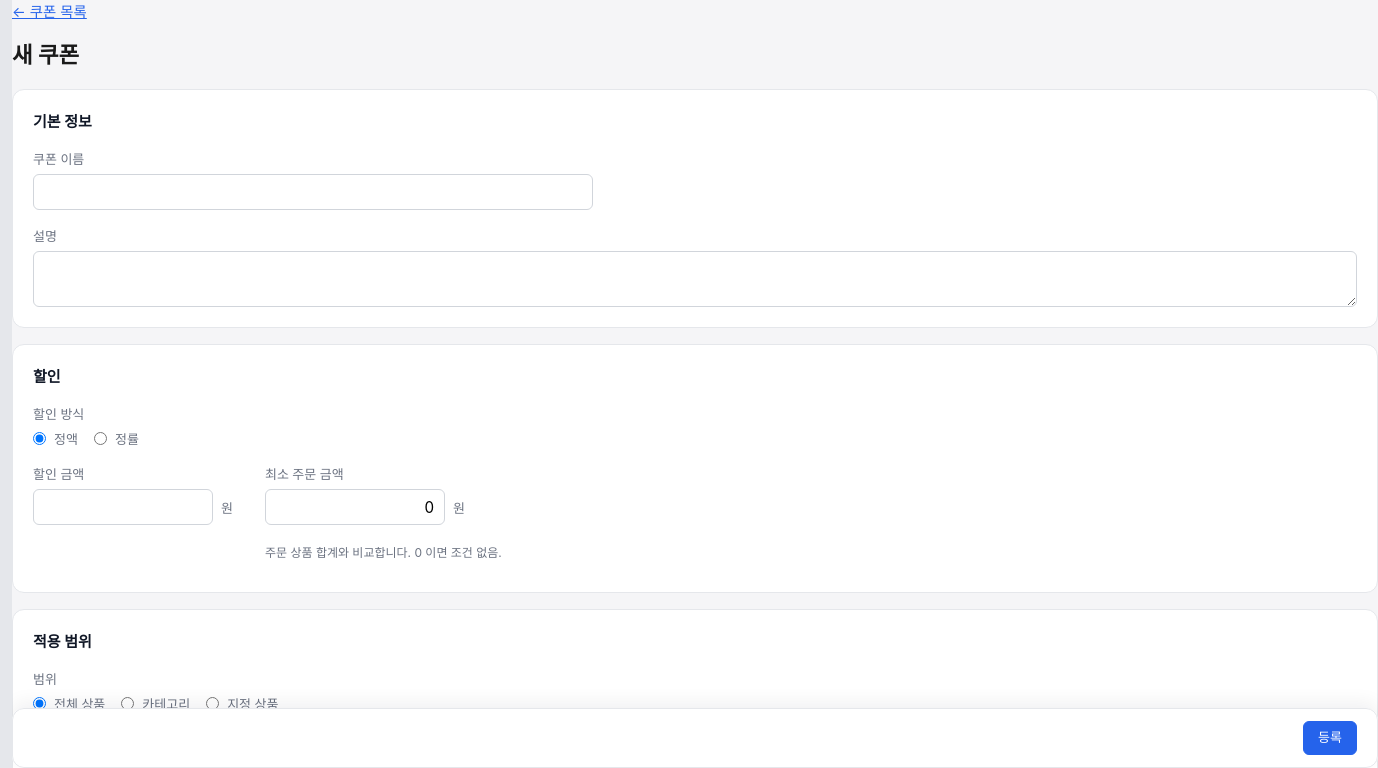
Test case: CouponFormPage › lists three-level categories with full paths, indented by depth
The width and height of the screenshot is (1378, 768).
What coordinates should you click on to do the following:
click the radio button labelled "카테고리"
I would click on:
 (128, 704)
Its box is [121,697,134,710].
(page scrolled)
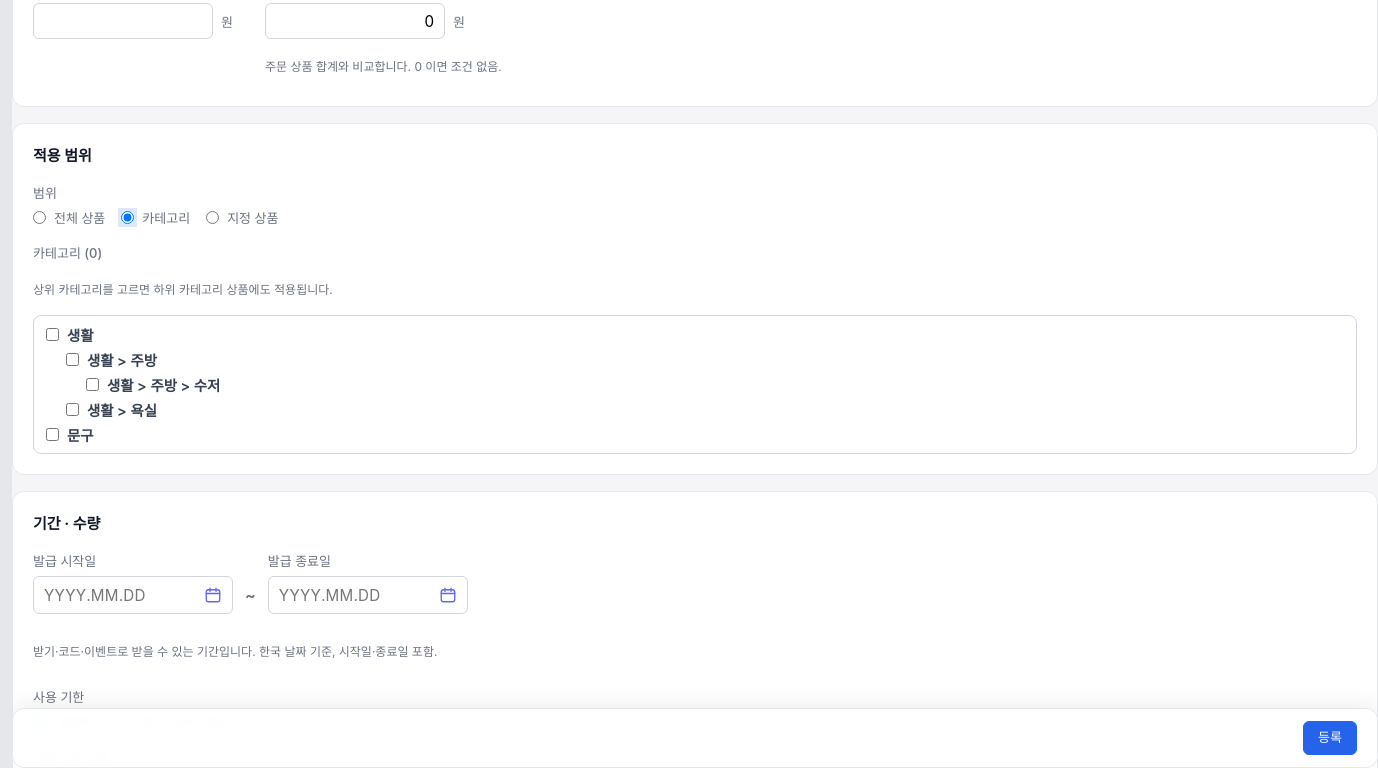
expect the list items read "생활", "생활 > 주방", "생활 > 주방 > 수저", "생활 > 욕실", "문구", in this order: met, box [46,327,94,344]; [66,352,157,369]; [86,377,220,394]; [66,402,157,419]; [46,427,94,444]
